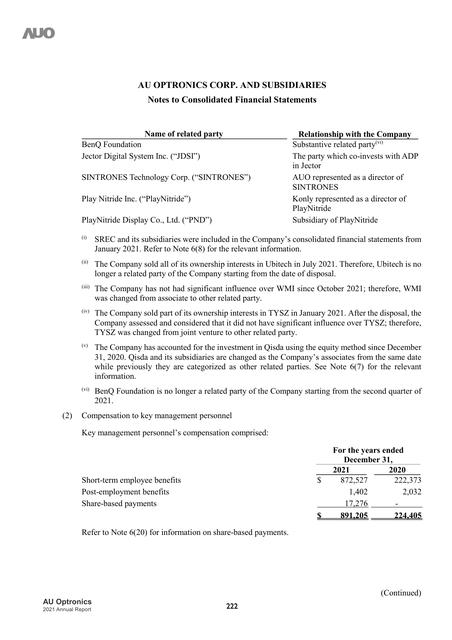box: (77, 129, 422, 227), (80, 445, 428, 522)
